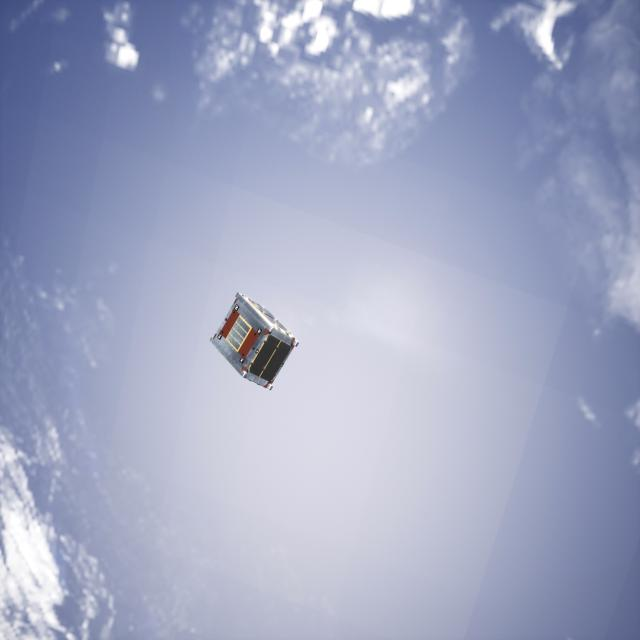medium_debris: (208, 284, 298, 392)
